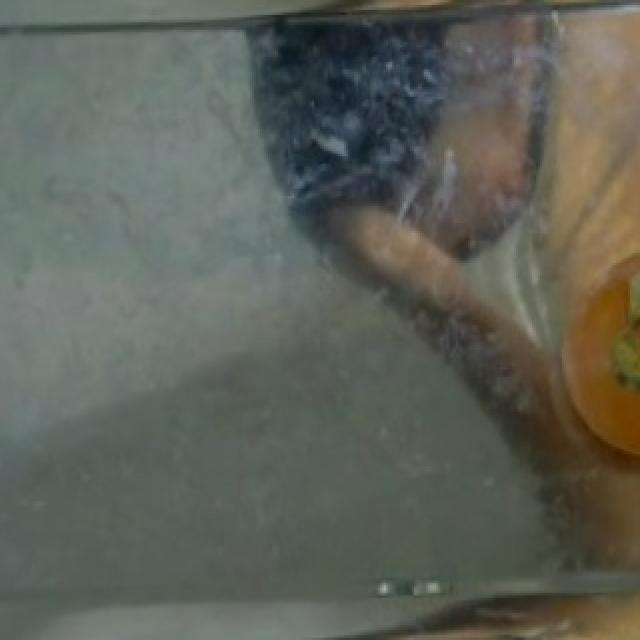Fruit: (480, 560, 640, 640)
